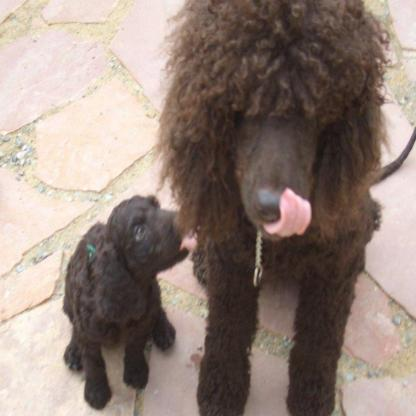Irish_water_spaniel: (152, 0, 390, 414), (56, 191, 198, 414)
